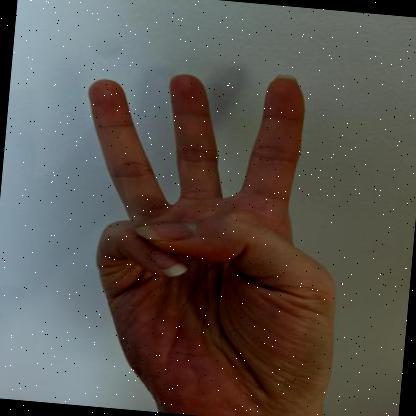W: (88, 74, 336, 416)
